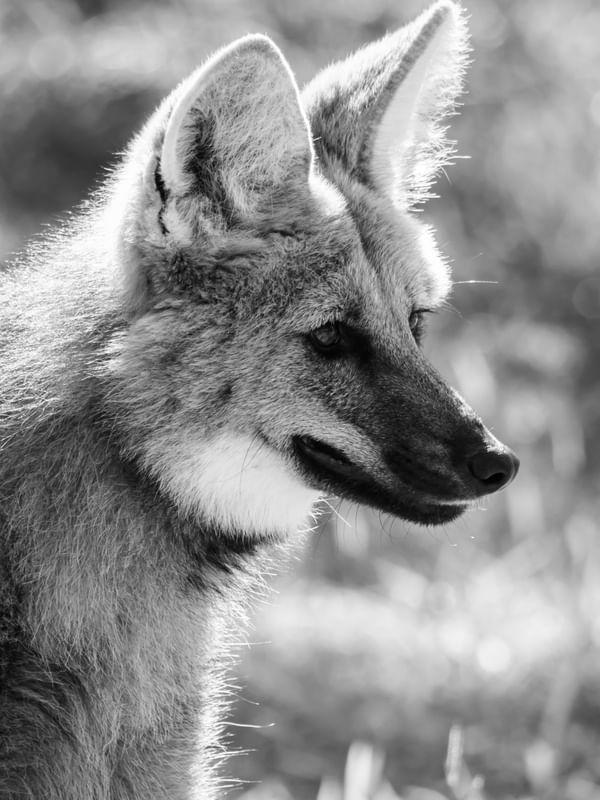LoboGuara: (35, 9, 538, 770)
